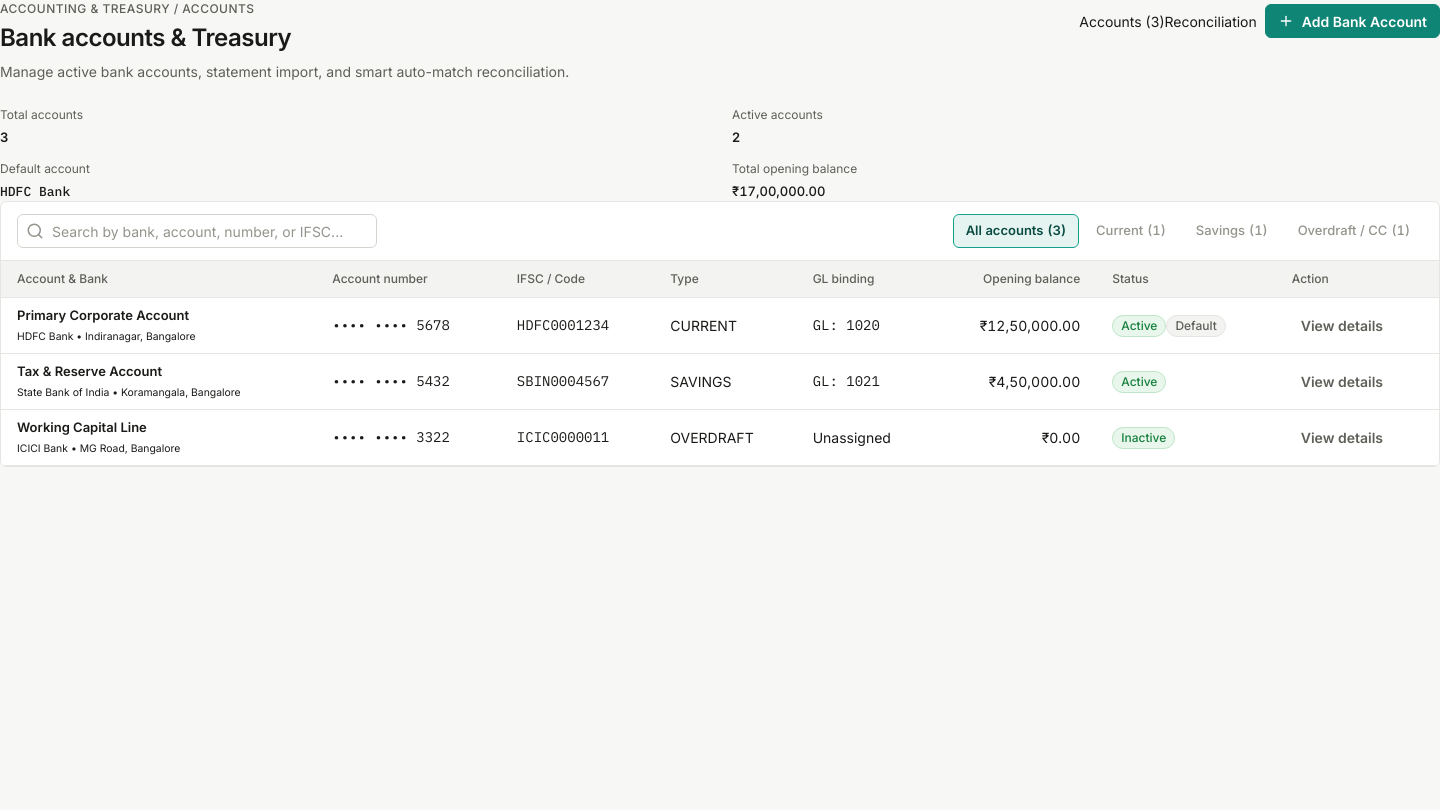
it: BankingPage › opens and closes the account details modal
Expected: the text "Primary Corporate Account" is shown, [17,307,189,323]
What coordinates should you click on to do the following:
click the button "View details" in the row of "Primary Corporate Account"
I would click on:
 (1342, 325)
Its box is [1292,308,1392,342].
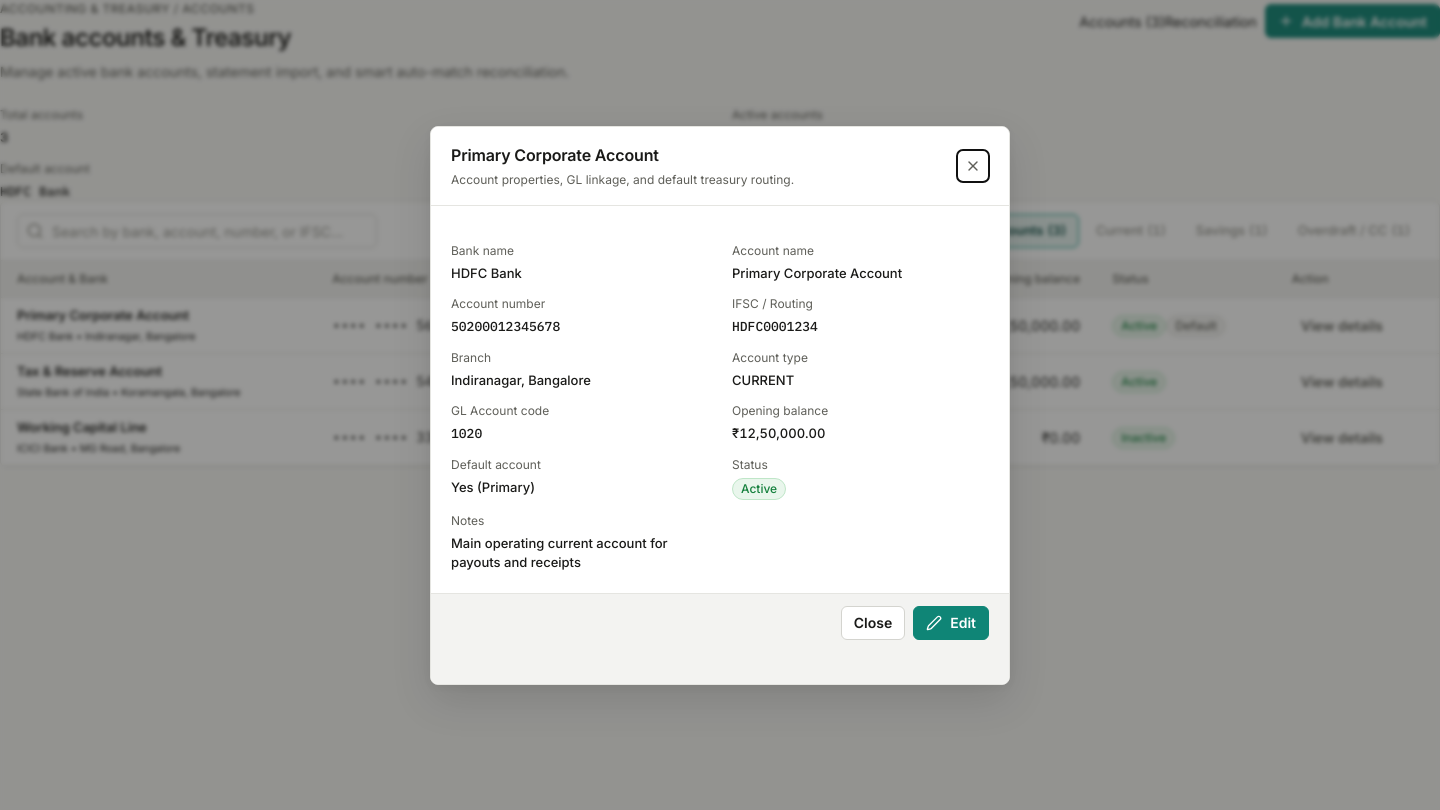
Result: the dialog is shown at [430,126,1010,684]
Result: the text "50200012345678" is shown at [451,318,560,335]
Result: the text "Main operating current account for payouts and receipts" is shown at [451,534,668,570]
# Close modal
What coordinates should you click on to do the following:
click the button "Close"
I would click on:
 (873, 622)
Its box is [841,606,905,640].
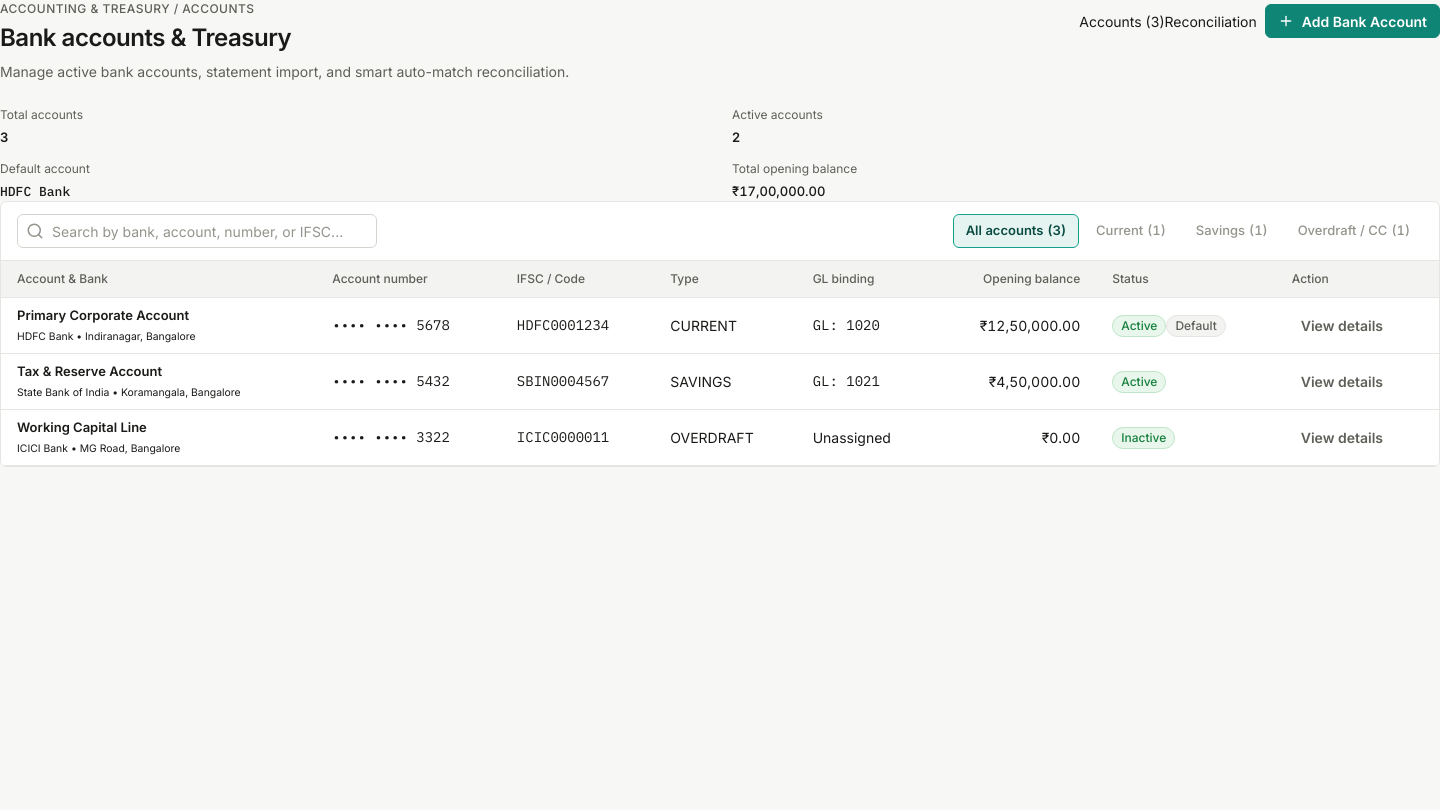
Result: the dialog is gone
